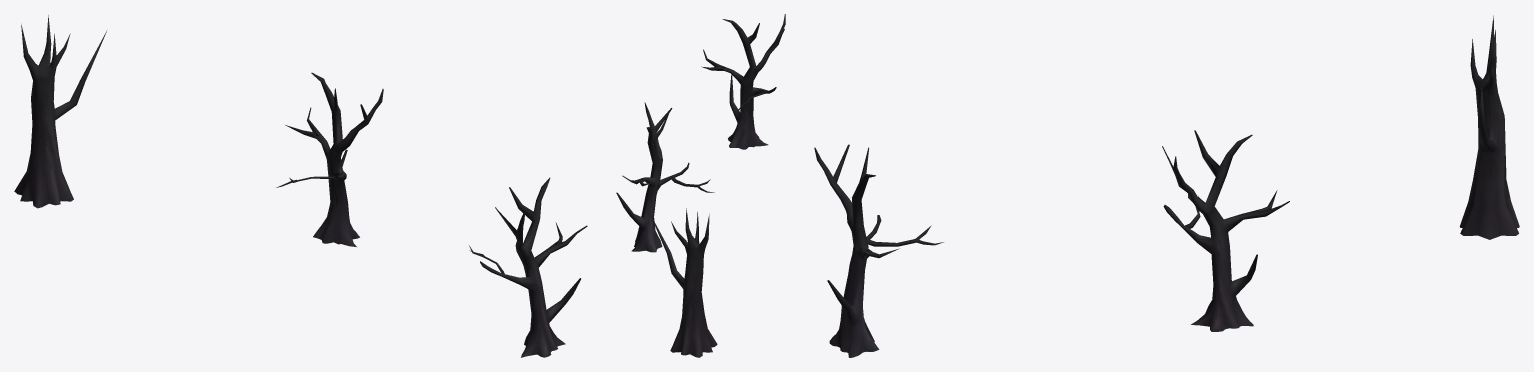
Rendered from Area08_3.fbx.
3 views of the same model, side by side, from view 1: azimuth 30°, elevation 25°; view 2: azimuth 150°, elevation 25°; view 3: azimuth 270°, elevation 25° (orthographic). The views are drawn at different scales.
Parts seen in each view (by area): view 1: Area08_3; view 2: Area08_3; view 3: Area08_3.
Boxes of the visible parts, box(x1,y1,x2,y2) form: Area08_3: box(14, 15, 587, 357); Area08_3: box(616, 14, 785, 357); Area08_3: box(814, 15, 1519, 357).
Bounding box in the file's own units: 2390 × 1401 × 4446.
